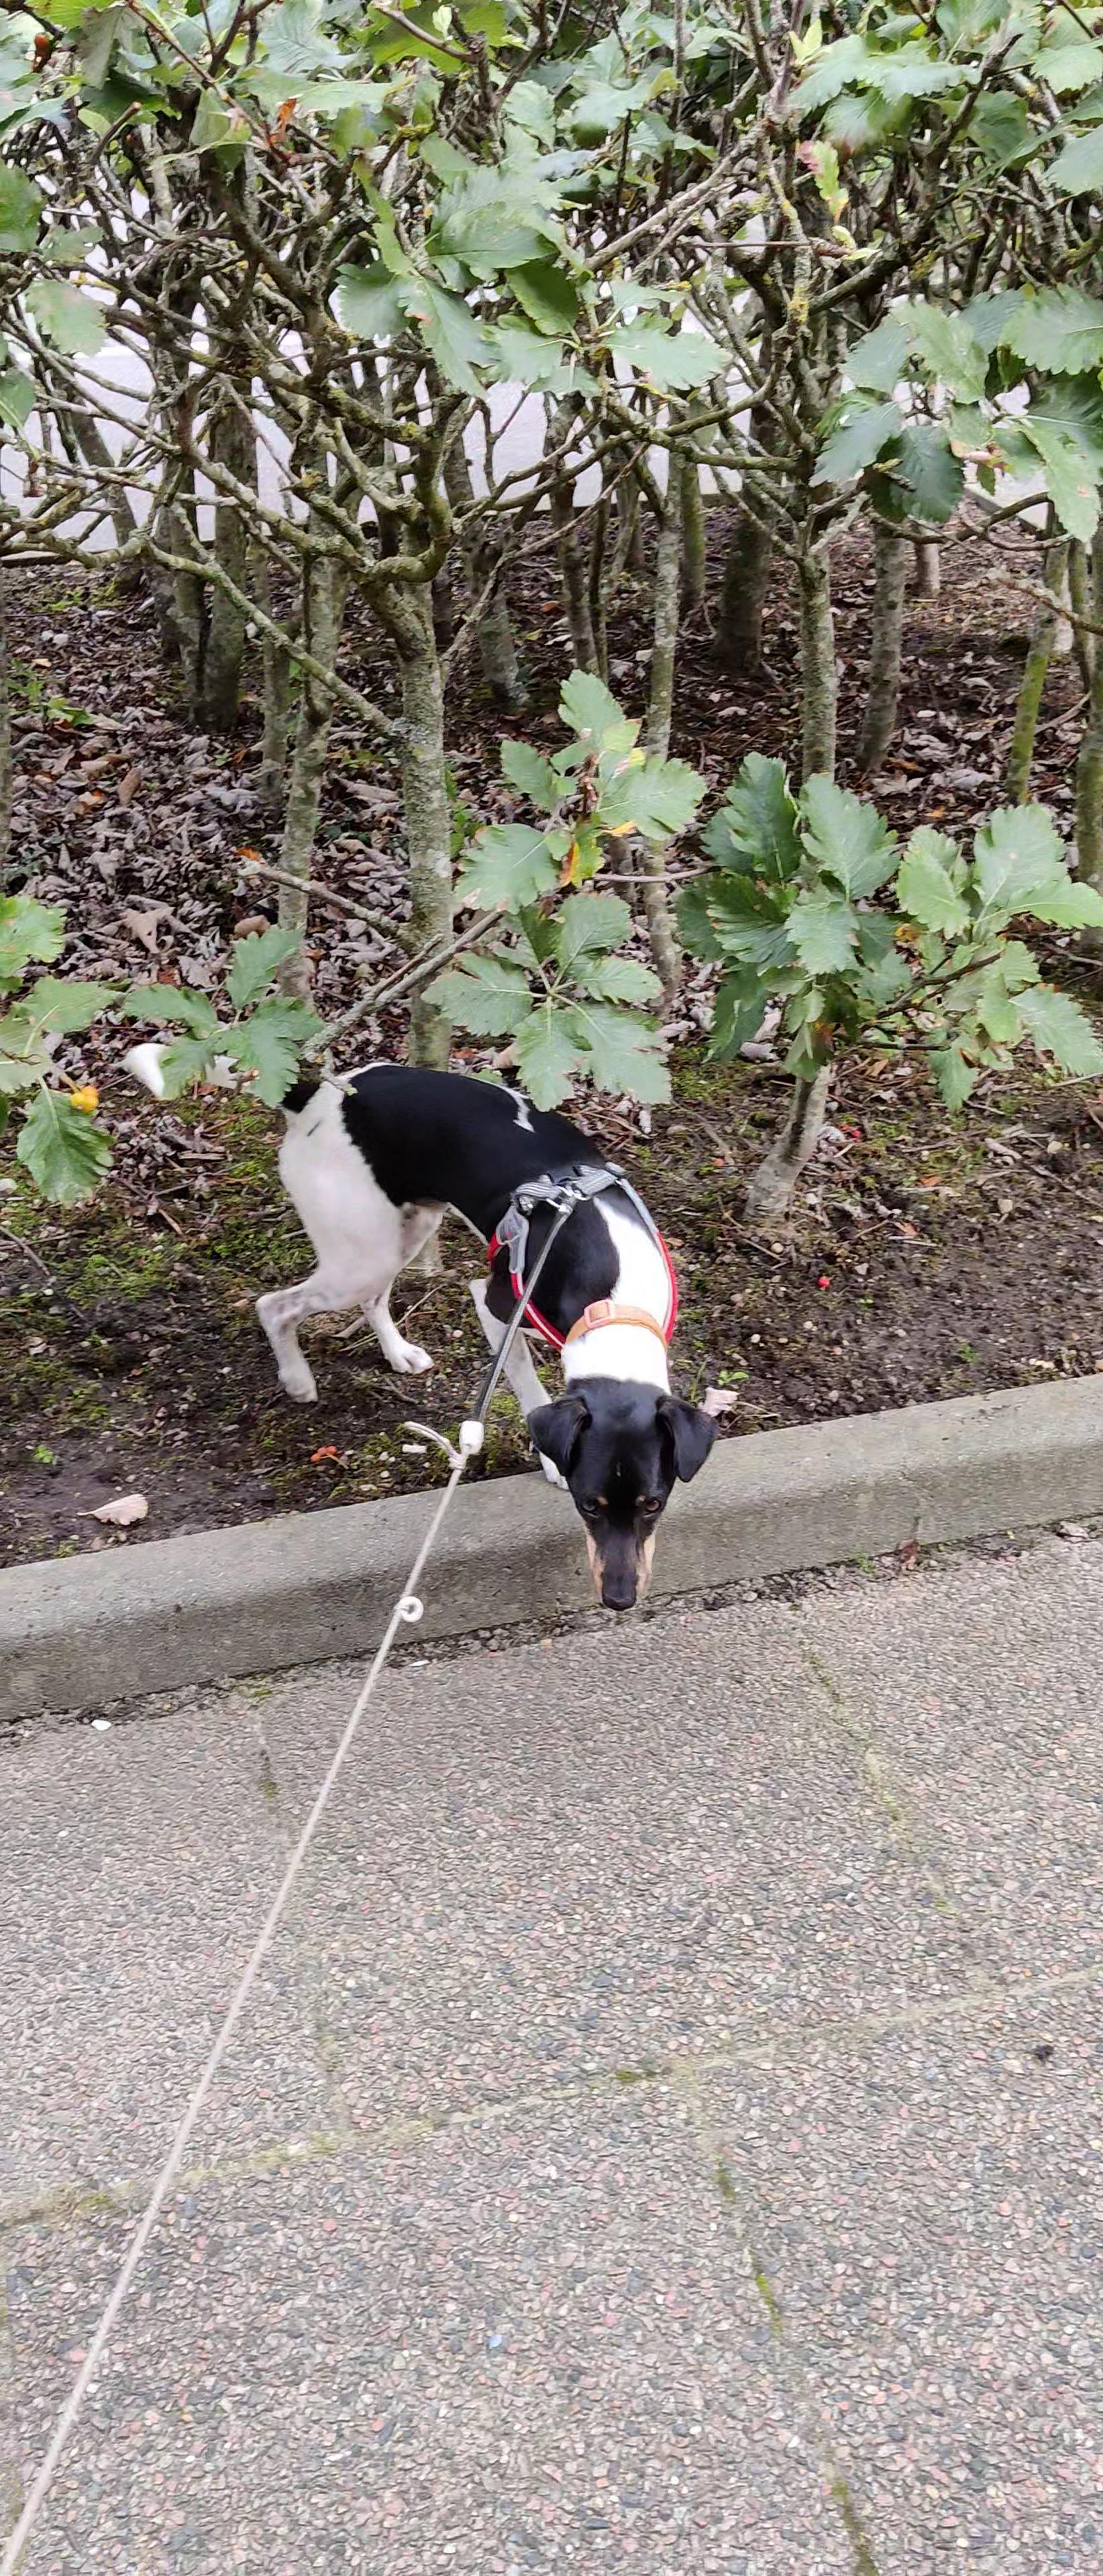Dog: (112, 1040, 718, 1615)
